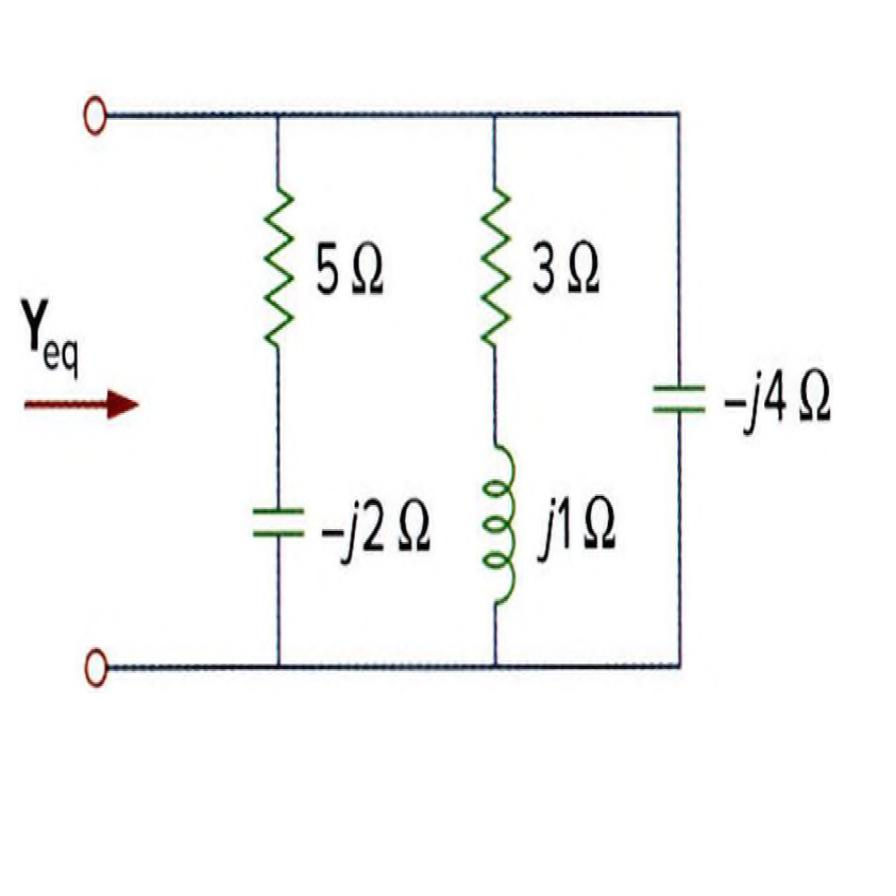C2: (244, 470, 312, 574), (641, 351, 712, 448)
L2: (472, 405, 526, 628)
